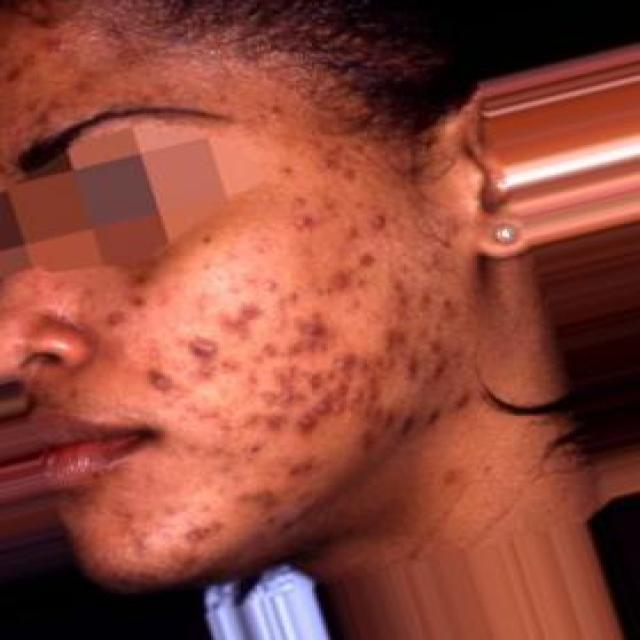acne: (262, 346, 386, 427), (176, 329, 234, 367)
